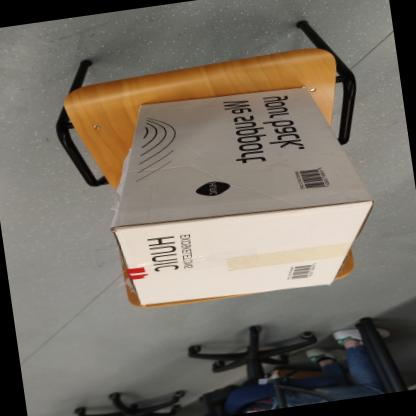box: (67, 67, 384, 313)
